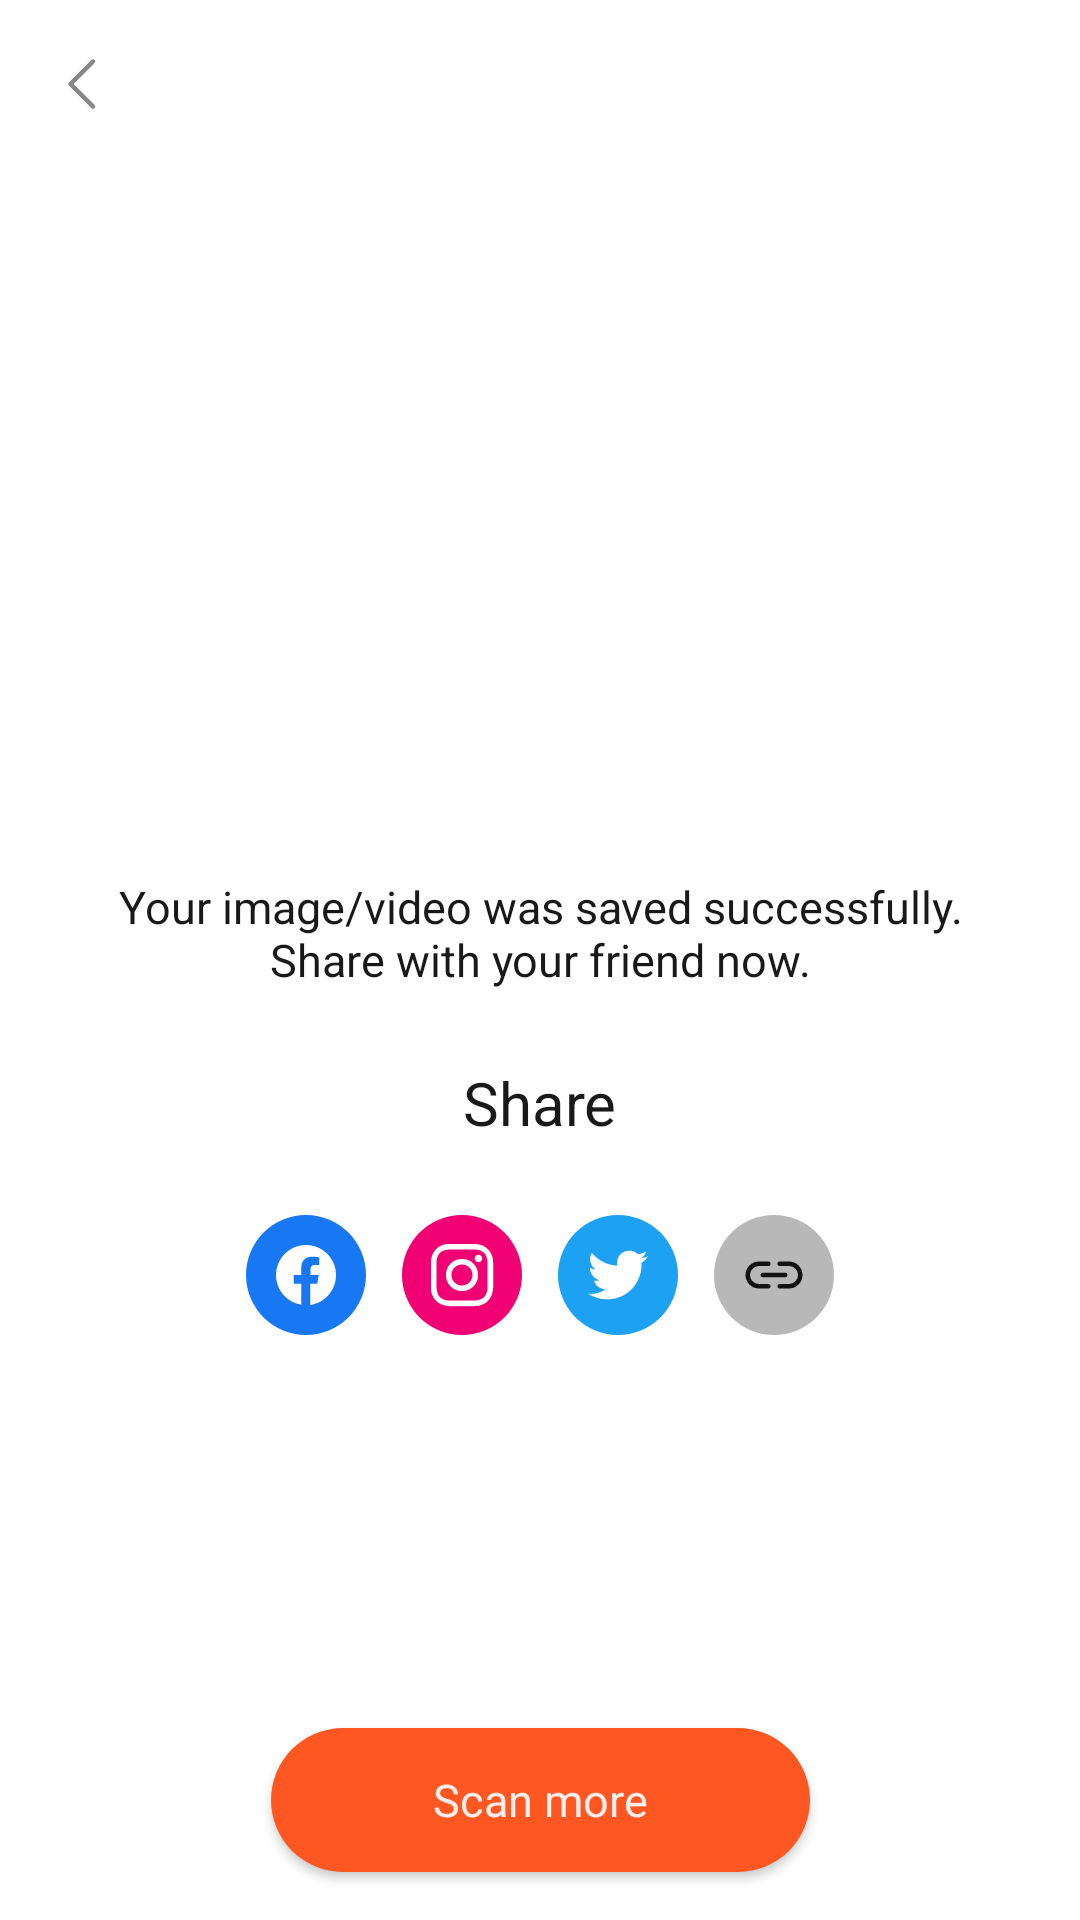

Screen size 1080px×1920px. Icon name, then its box in pixels as {"left": x1, "top": y1, "right": x2, "bottom": y2}:
caret left: {"left": 68, "top": 59, "right": 96, "bottom": 109}
